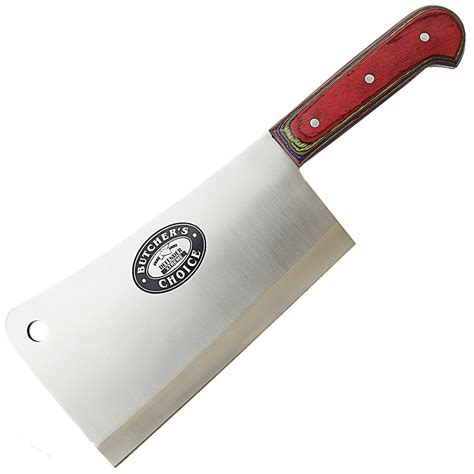knife: (4, 5, 465, 469)
